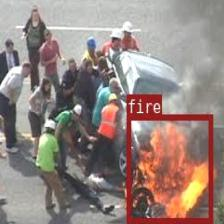fire: (126, 114, 212, 223)
